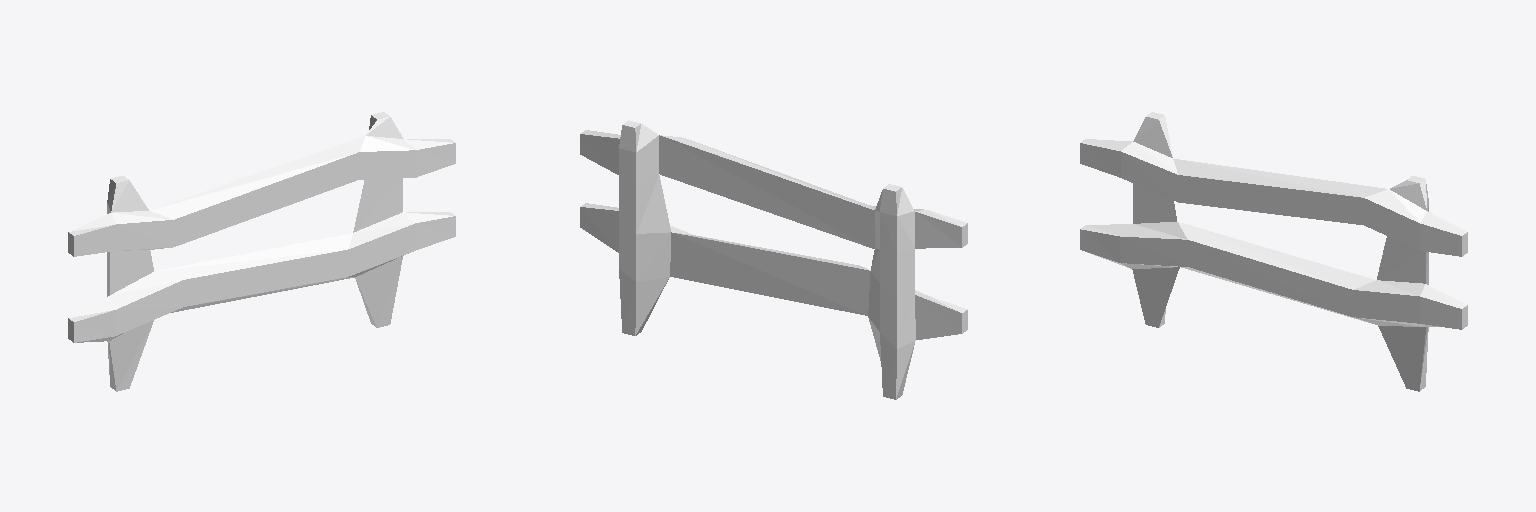
File: barriere.obj
3 views of the same model, side by side, from view 1: azimuth 30°, elevation 25°; view 2: azimuth 150°, elevation 25°; view 3: azimuth 330°, elevation 25° (orthographic).
Parts seen in each view (by area): view 1: Barriere1; view 2: Barriere1; view 3: Barriere1.
Part boxes in pixels (x1,y1,x2,y2): Barriere1: (68, 112, 455, 391); Barriere1: (580, 120, 967, 399); Barriere1: (1080, 112, 1467, 391).
Size of the model in its own units: 12.33 by 6.43 by 1.11.